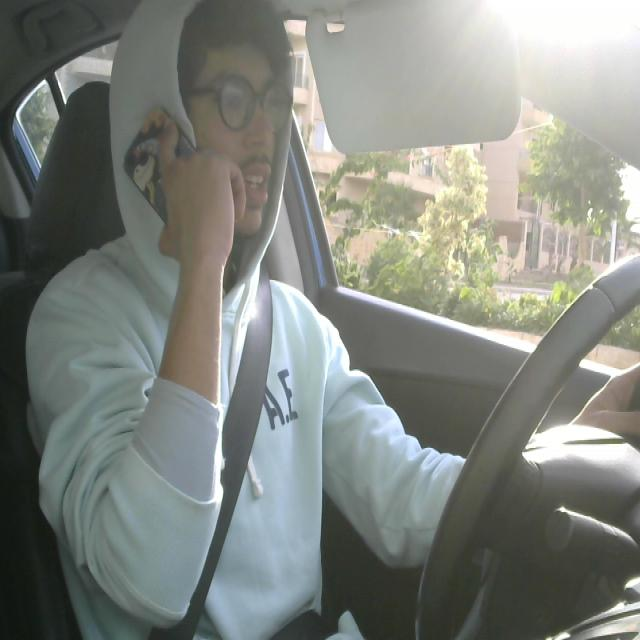mobile use: (121, 103, 221, 239)
